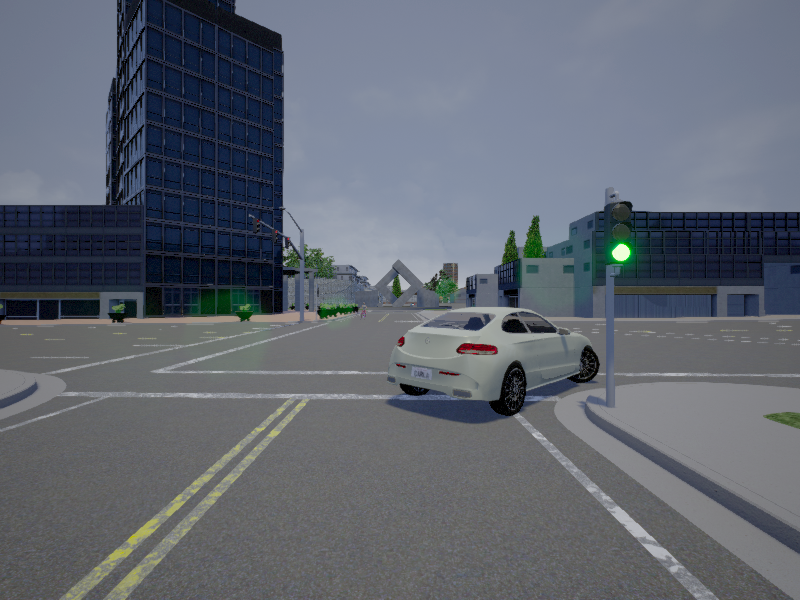Benign: (390, 306, 600, 418)
